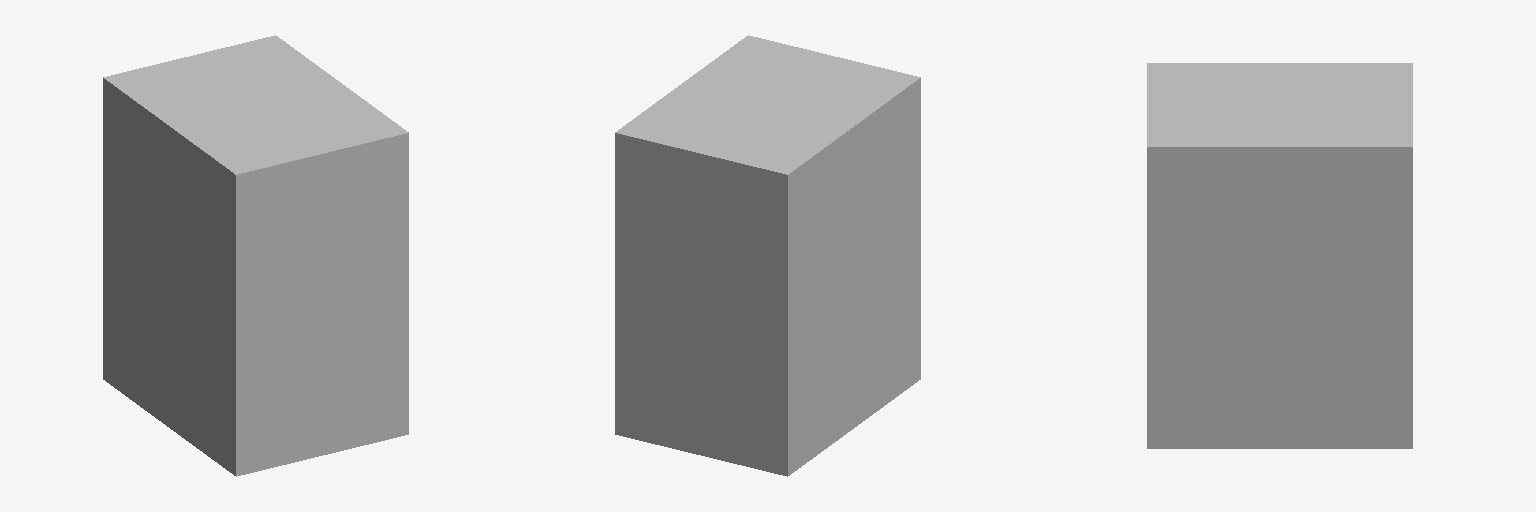
The model's file is LavaJones_Arm.obj.
The picture shows the model from 3 angles: view 1: azimuth 30°, elevation 25°; view 2: azimuth 150°, elevation 25°; view 3: azimuth 270°, elevation 25°; orthographic projection.
Parts seen in each view (by area): view 1: object 1; view 2: object 1; view 3: object 1.
Part boxes in pixels (bbox=[...]): object 1: bbox=[103, 35, 408, 476]; object 1: bbox=[615, 35, 920, 476]; object 1: bbox=[1147, 63, 1412, 448].
Size of the model in its own units: 0.3 by 0.5 by 0.4.